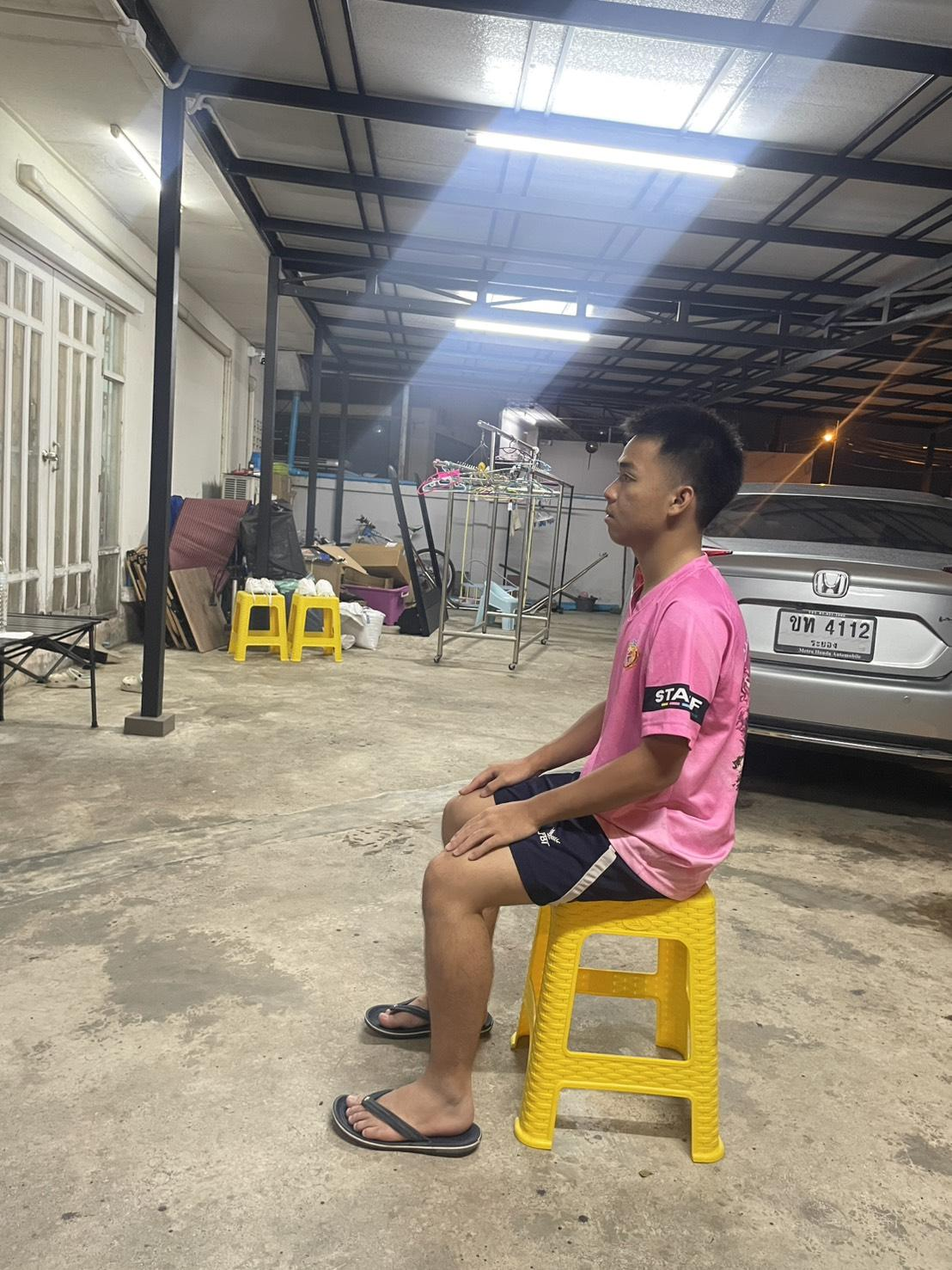GoodPosture: (332, 403, 748, 1157)
